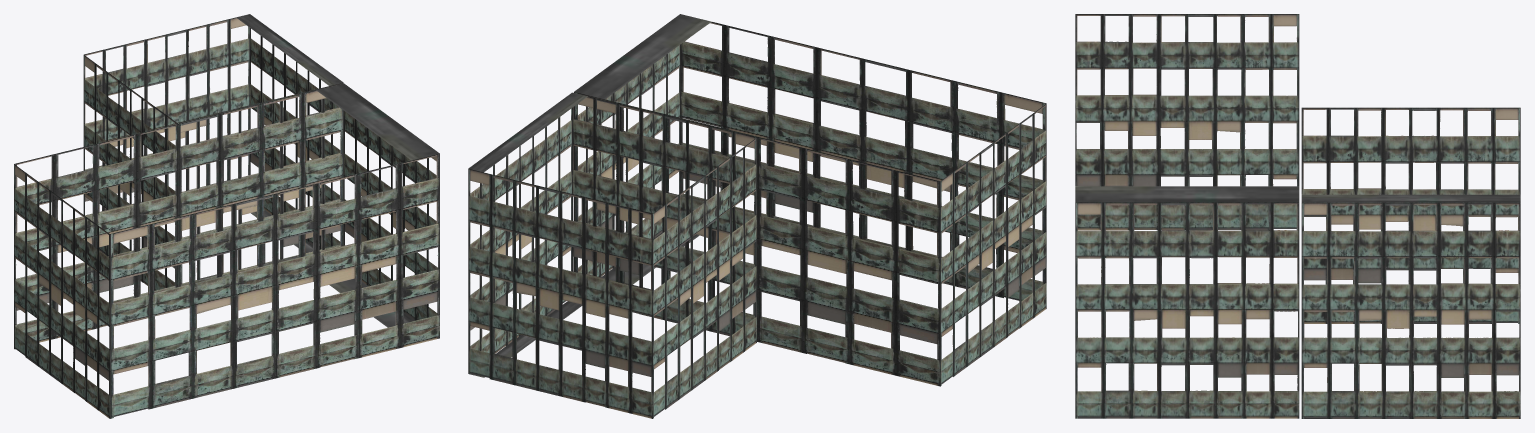
Rendered from BagSS09mid_0.fbx.
The picture shows the model from 3 angles, left to right: view 1: azimuth 30°, elevation 25°; view 2: azimuth 150°, elevation 25°; view 3: azimuth 270°, elevation 25°; orthographic projection. The views are drawn at different scales.
Visible parts, largest first — view 1: midBox0; view 2: midBox0; view 3: midBox0.
Part boxes in pixels (x1,y1,x2,y2): midBox0: [14, 14, 439, 418]; midBox0: [468, 14, 1046, 418]; midBox0: [1075, 14, 1520, 418].
Bounding box in the file's own units: 40.55 × 21.67 × 40.46.
